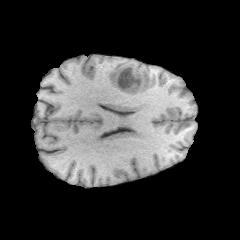glioma: (108, 60, 150, 93)
